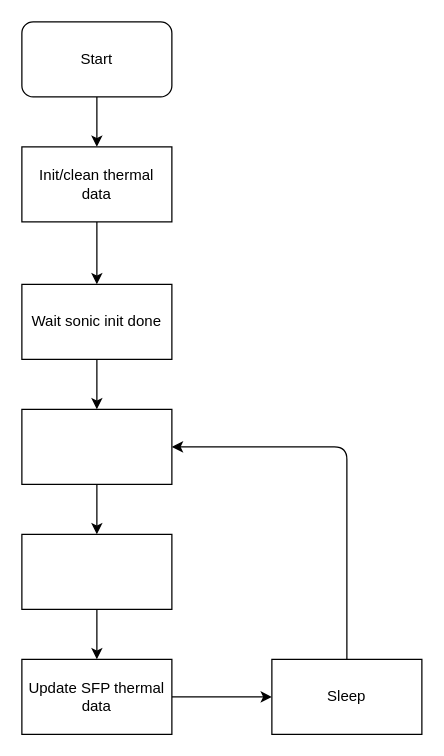
Some shapes in this 444 by 756 pixel diagram are drawn without their labels. Each missing label, with the centre of its shape:
Main loop: pixel 96 446
Update ASIC thermal data: pixel 96 571
